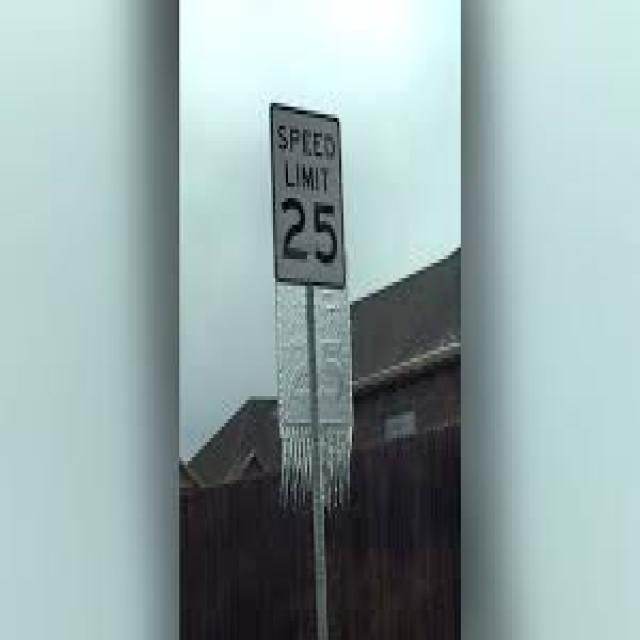speedLimit25: (268, 99, 359, 297)
